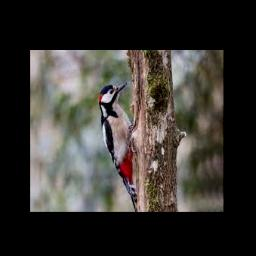Woodpecker: (99, 82, 137, 212)
